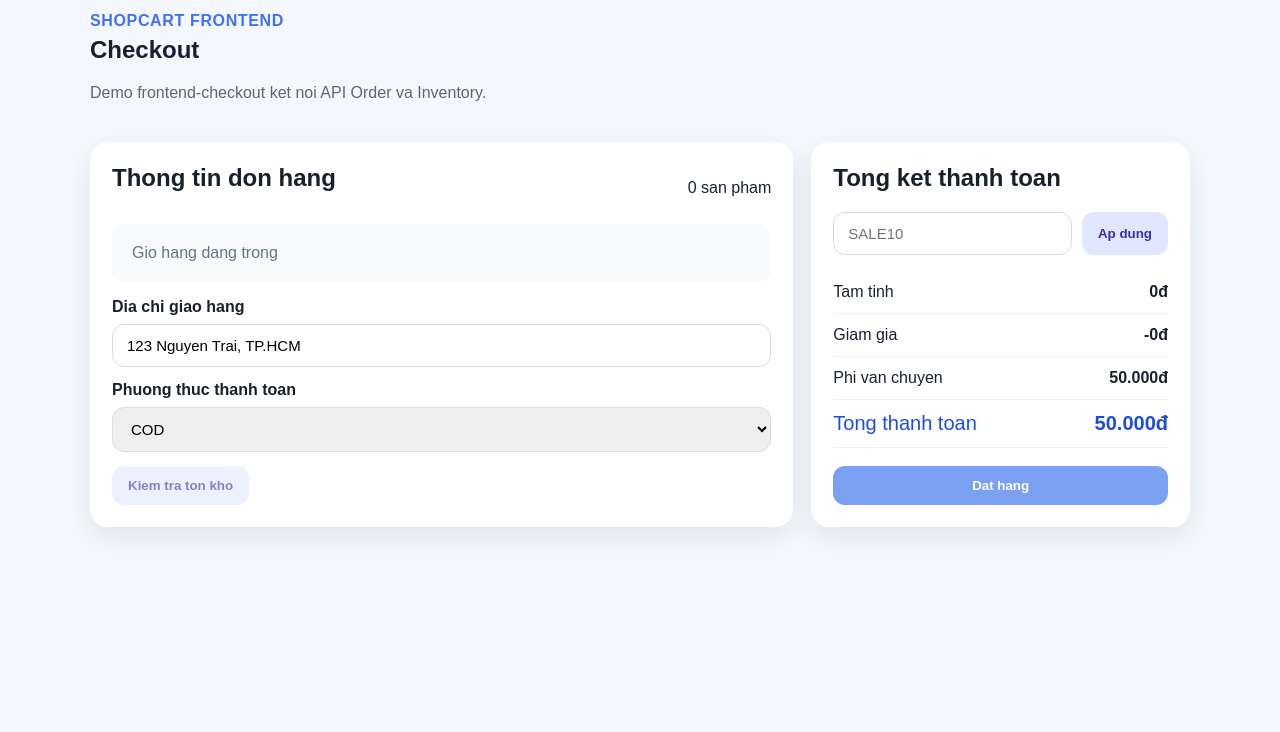
Test case: Checkout Component Extra Coverage Tests › TC_CHECKOUT_EXTRA_001: Ap dung coupon khong hop le thi hien thi loi
In the field with test id "coupon-input": (953, 233) [833,212,1072,255], type "INVALID"
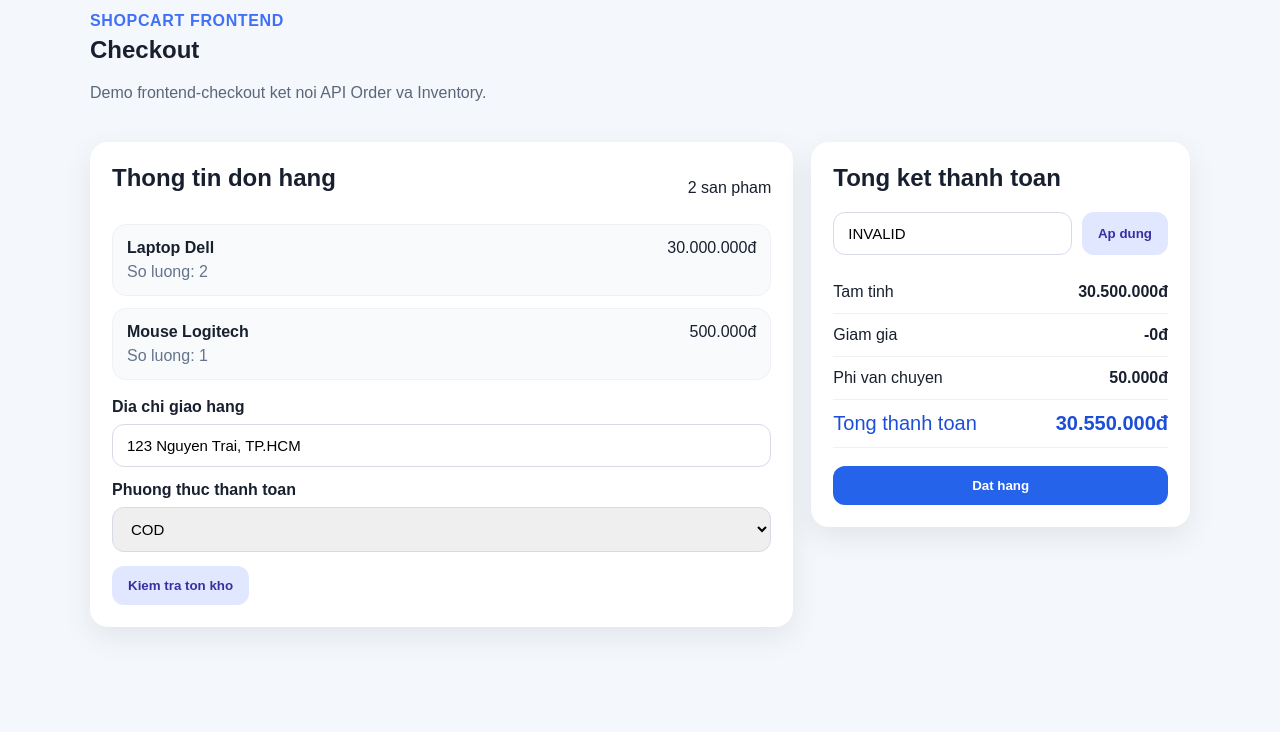
Click the button with test id "apply-coupon-btn": (1125, 233) [1082,212,1168,255]
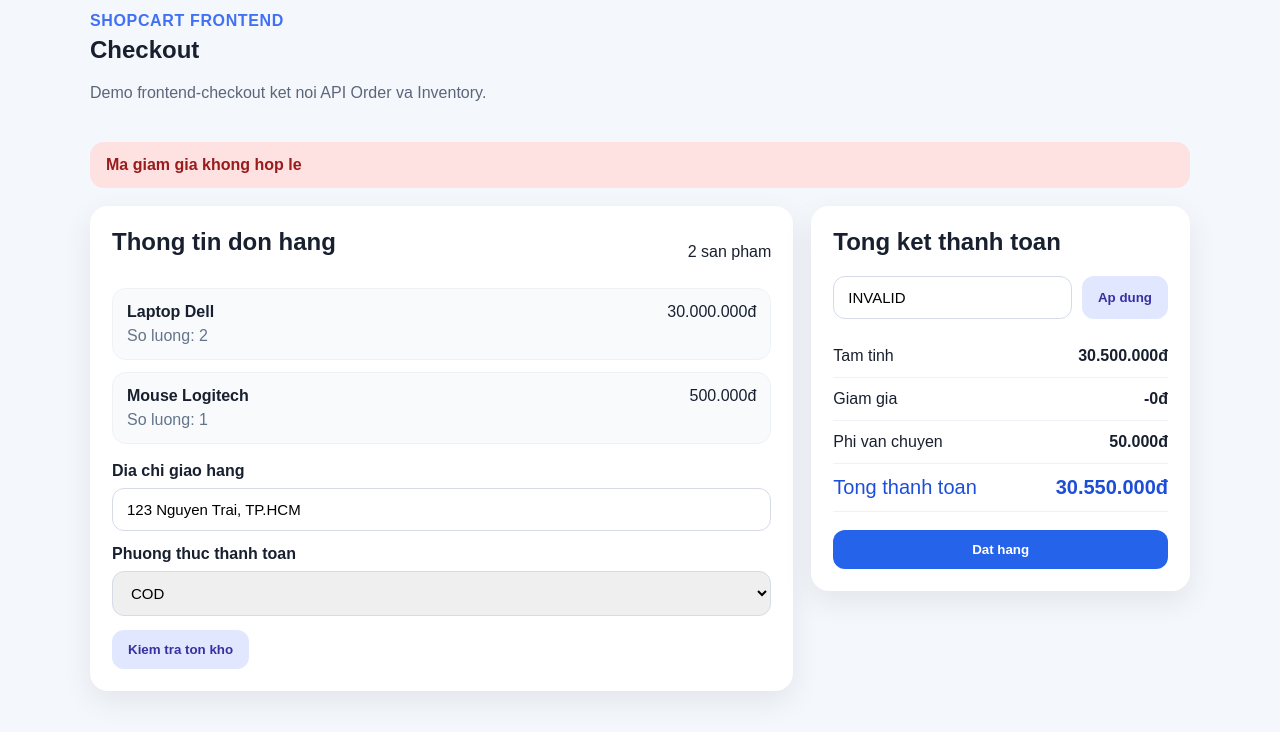
Check: the text with test id "discount-display" shows "-0", box [1144,390,1168,408]
Check: the text with test id "checkout-error-toast" reads "Ma giam gia khong hop le", box [106,156,302,173]
